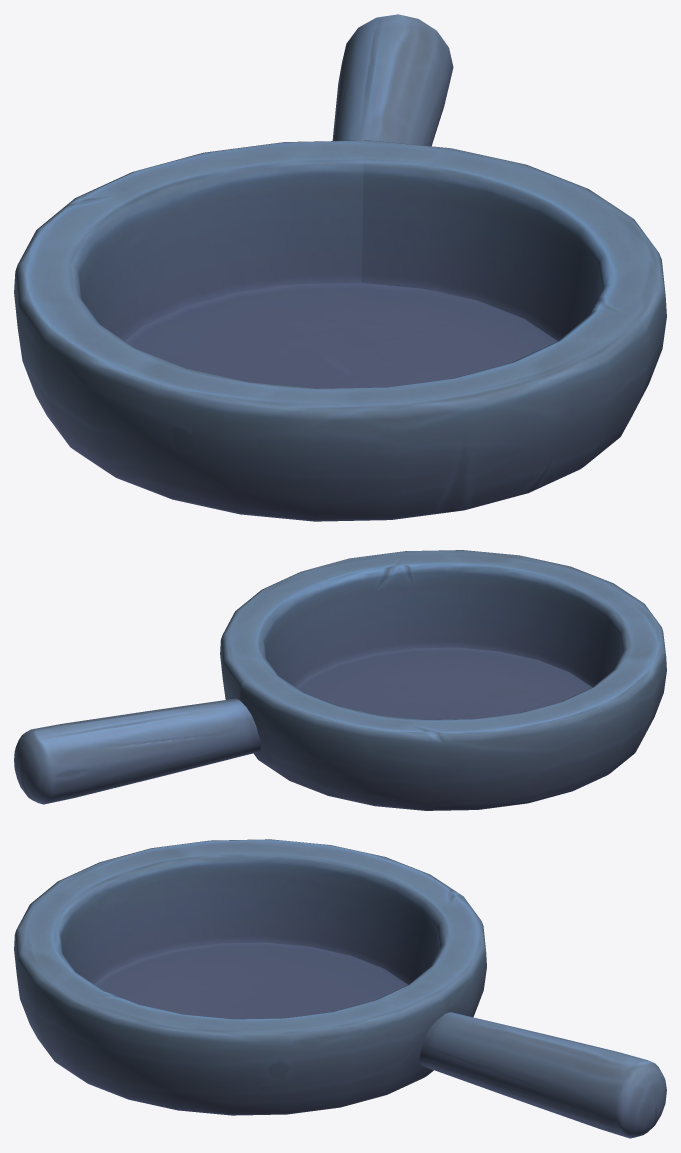
File: Frying_Pan.fbx
3 views of the same model, one above another, from view 1: azimuth 30°, elevation 25°; view 2: azimuth 150°, elevation 25°; view 3: azimuth 270°, elevation 25° (orthographic). The views are drawn at different scales.
Parts seen in each view (by area): view 1: Frying_Pan; view 2: Frying_Pan; view 3: Frying_Pan.
Part boxes in pixels (x1=…): Frying_Pan: x1=14, y1=14, x2=666, y2=521; Frying_Pan: x1=14, y1=550, x2=666, y2=810; Frying_Pan: x1=14, y1=839, x2=666, y2=1138.
Size of the model in its own units: 1.05 by 0.194 by 1.27.
Materials: 1 (1 with a texture image).
